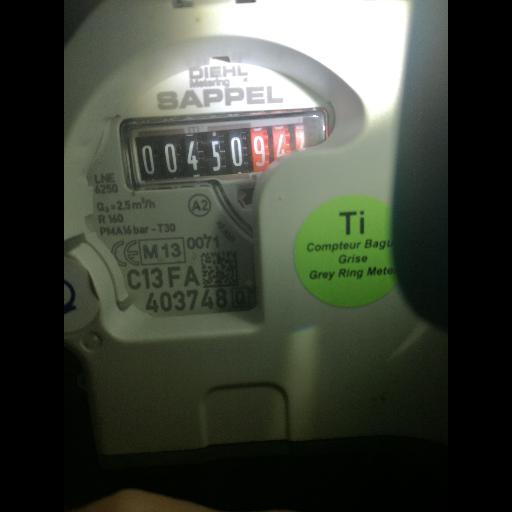0: (159, 133, 183, 181), (136, 136, 160, 183), (227, 129, 250, 175)
4: (182, 132, 203, 178), (271, 125, 291, 160)
5: (206, 130, 227, 177)
7: (293, 123, 307, 150)
9: (250, 126, 271, 172)
border_water_meter_number: (129, 113, 330, 187)
